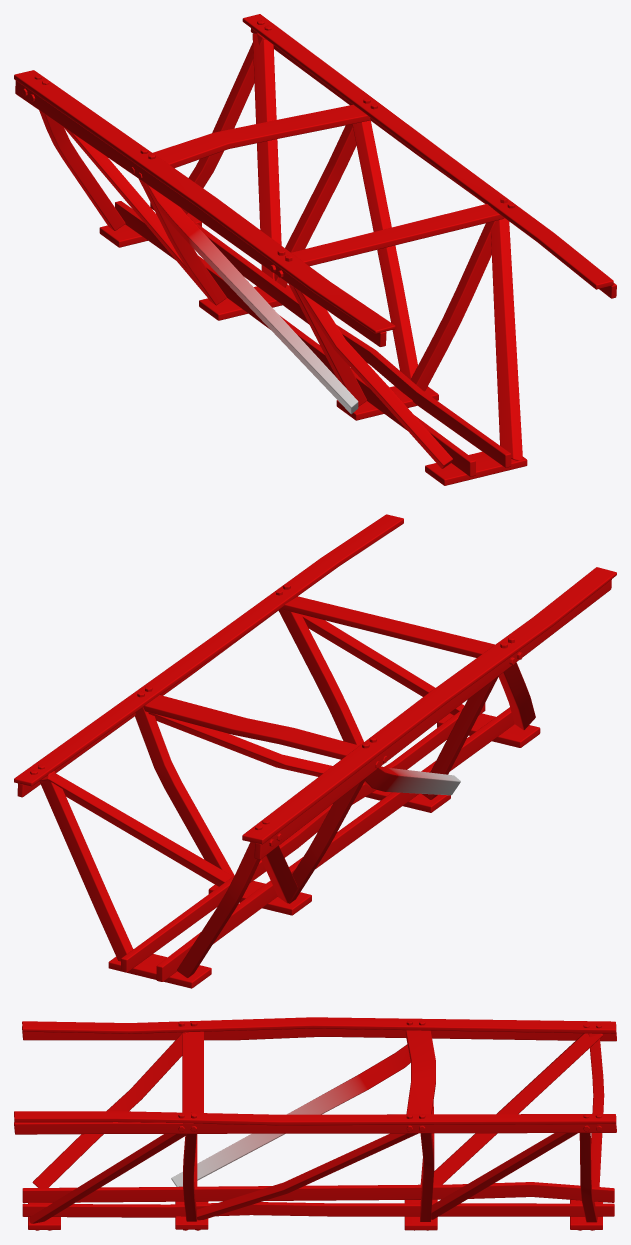
Rendered from structure_01.fbx.
3 renders of one model, top to bottom at view 1: azimuth 30°, elevation 25°; view 2: azimuth 150°, elevation 25°; view 3: azimuth 270°, elevation 25°, orthographic. The views are drawn at different scales.
Parts seen in each view (by area): view 1: sm_en_MetalSupport_01_004; view 2: sm_en_MetalSupport_01_004; view 3: sm_en_MetalSupport_01_004.
Part boxes in pixels (bbox=[...]): sm_en_MetalSupport_01_004: bbox=[14, 14, 616, 485]; sm_en_MetalSupport_01_004: bbox=[14, 514, 616, 988]; sm_en_MetalSupport_01_004: bbox=[14, 1017, 616, 1230].
Size of the model in its own units: 140 by 98.99 by 356.
